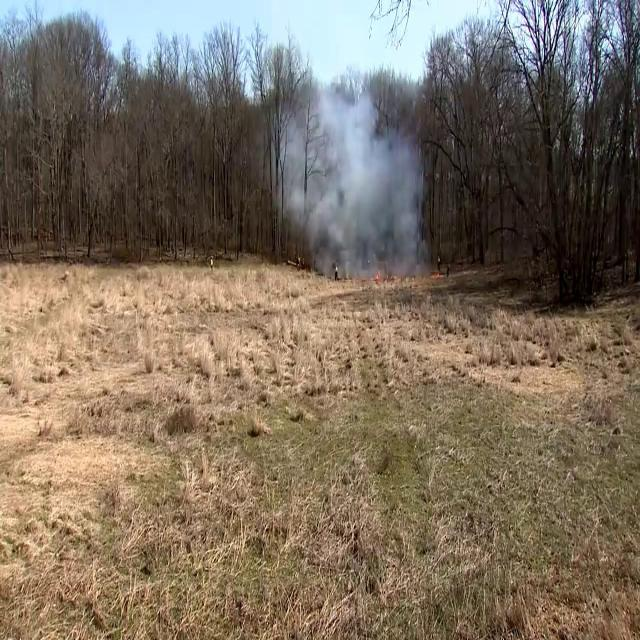Fire: (432, 270, 444, 278), (375, 269, 381, 279)
